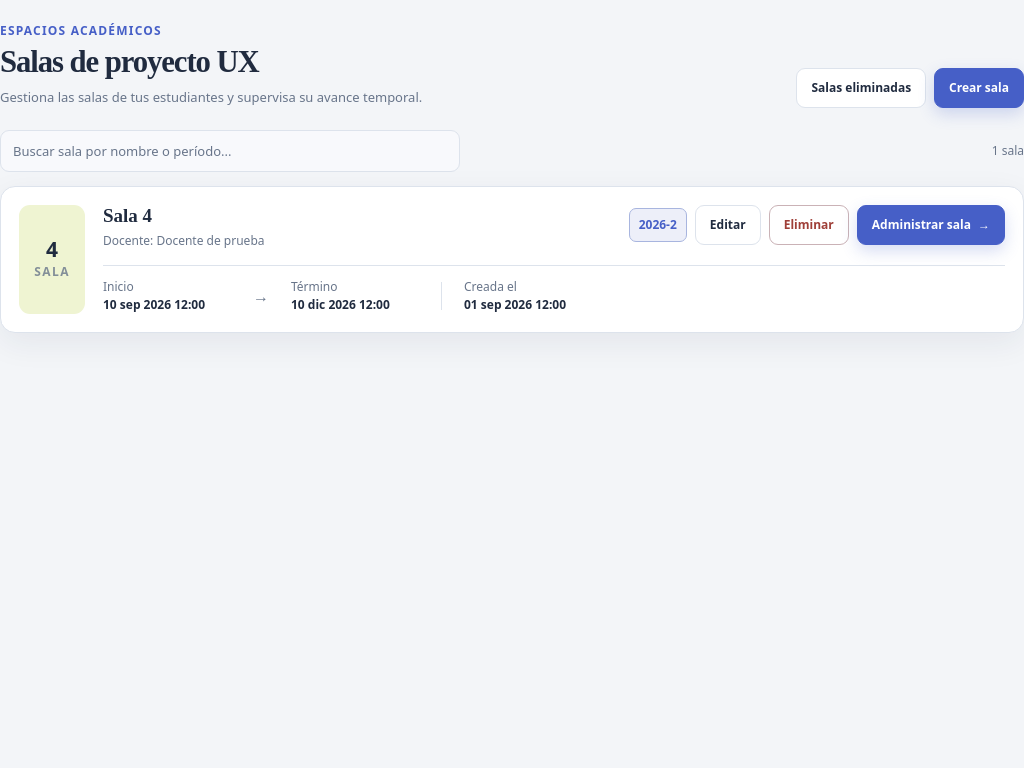
ProfesorSalasPage — edición de sala › conserva la edición y muestra el error cuando el servidor rechaza los cambios
Step 1. Click the button with aria-label "Editar sala Sala 4" → point(728, 225), box [695,205,761,245]
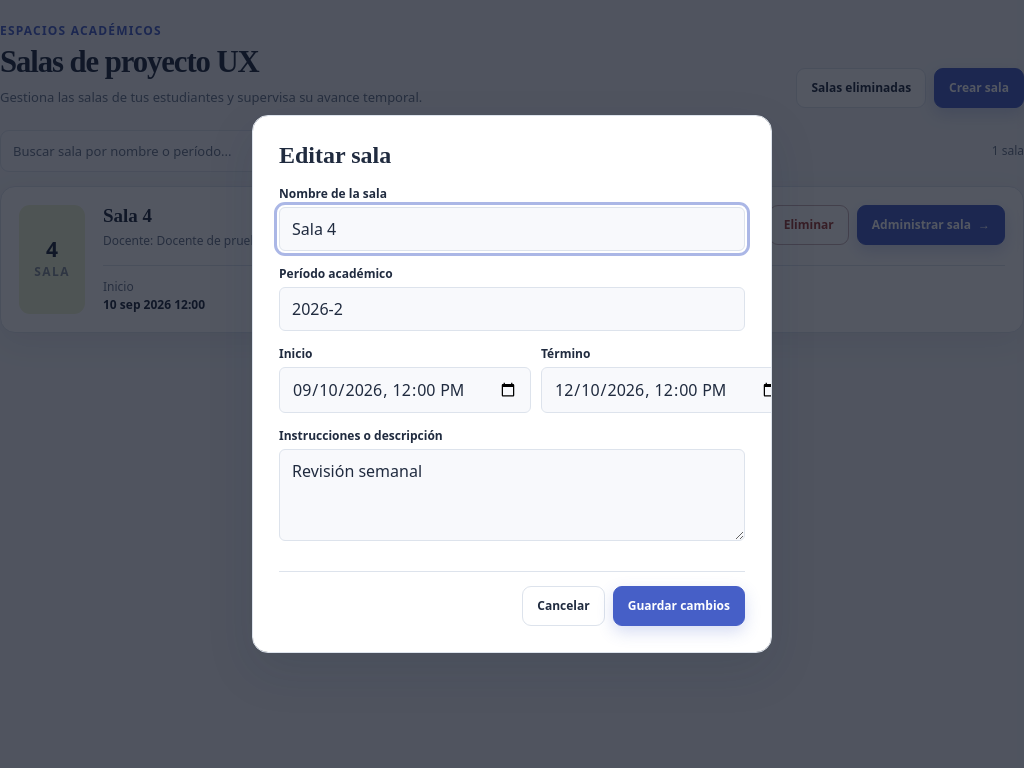
Step 2. Replace the text in the field labelled "Nombre de la sala" with "Sala corregida" → point(512, 229), box [279,207,745,251]
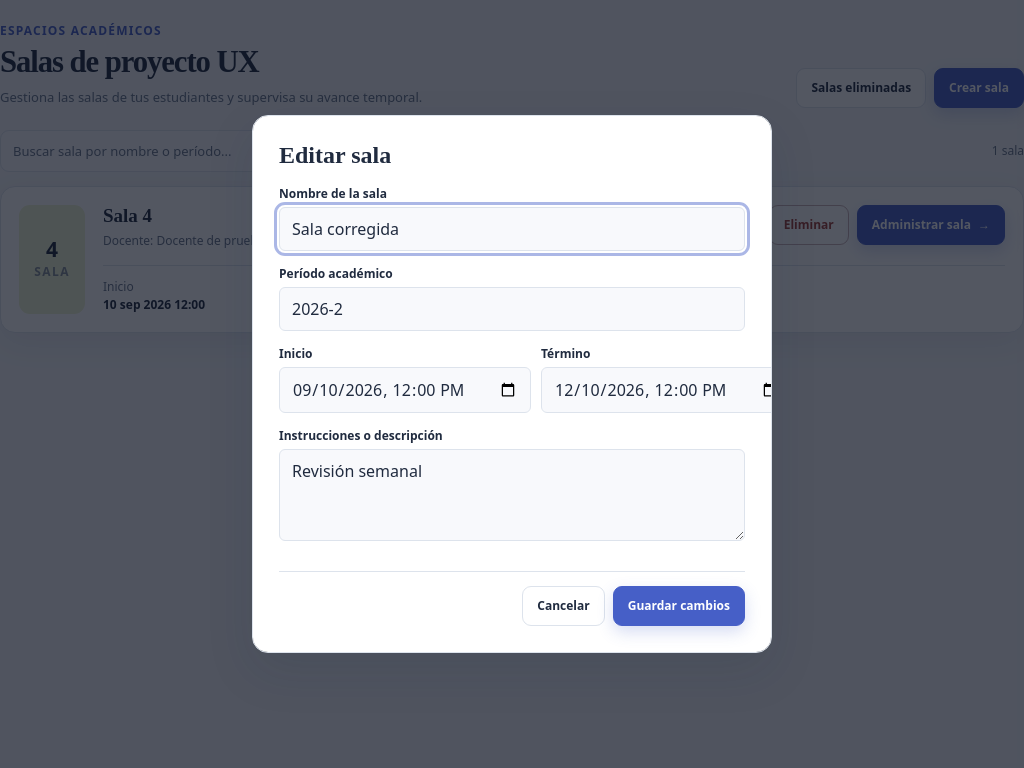
Step 3. Click the button "Guardar cambios" → point(679, 606), box [613,586,745,626]
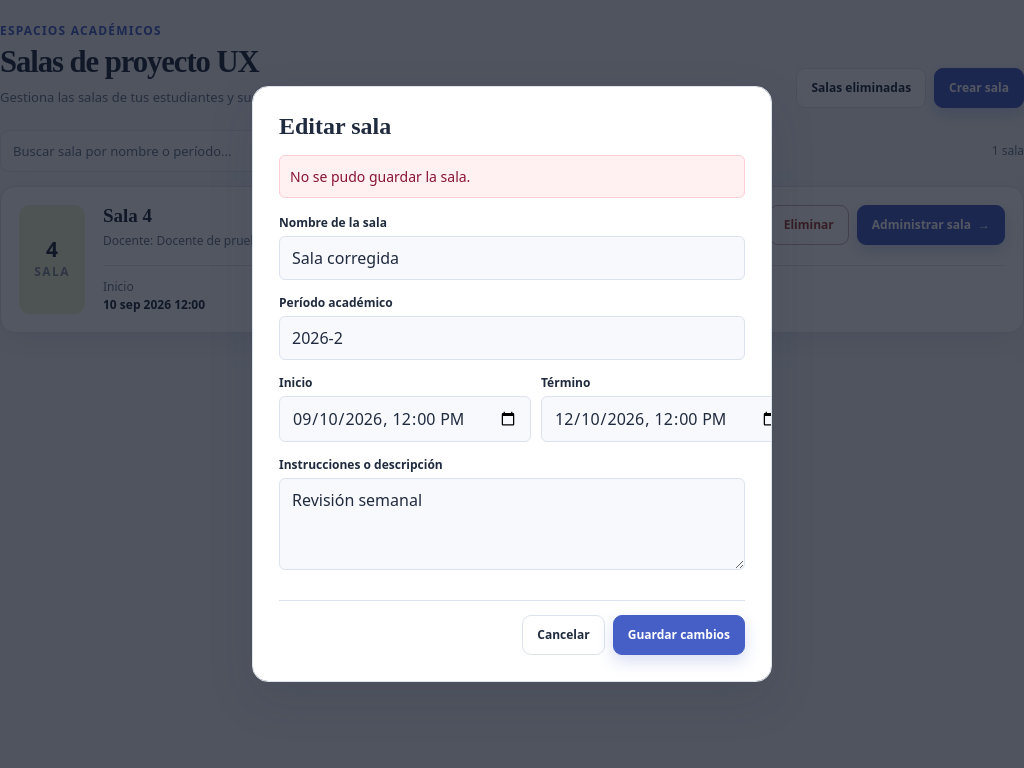
Check: the dialog is shown, box [252,86,772,682]
Check: the button "Guardar cambios" is enabled, box [613,615,745,655]
Check: the message reads "No se pudo guardar la sala.", box [290,167,470,186]
